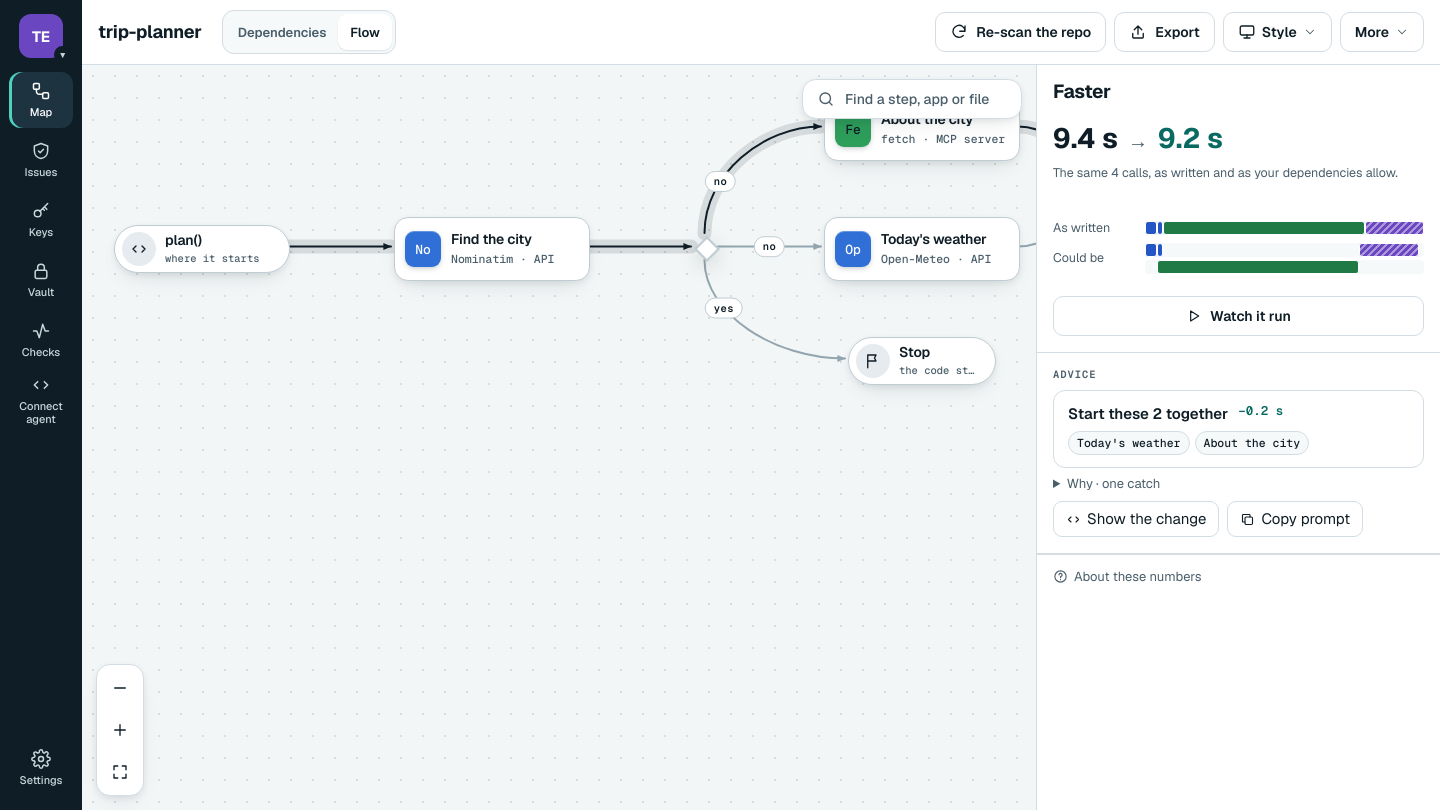
Test case: Watch it run plays the could-be schedule, said plainly
Click the button "Watch it run": (1238, 316) [1053,296,1424,336]
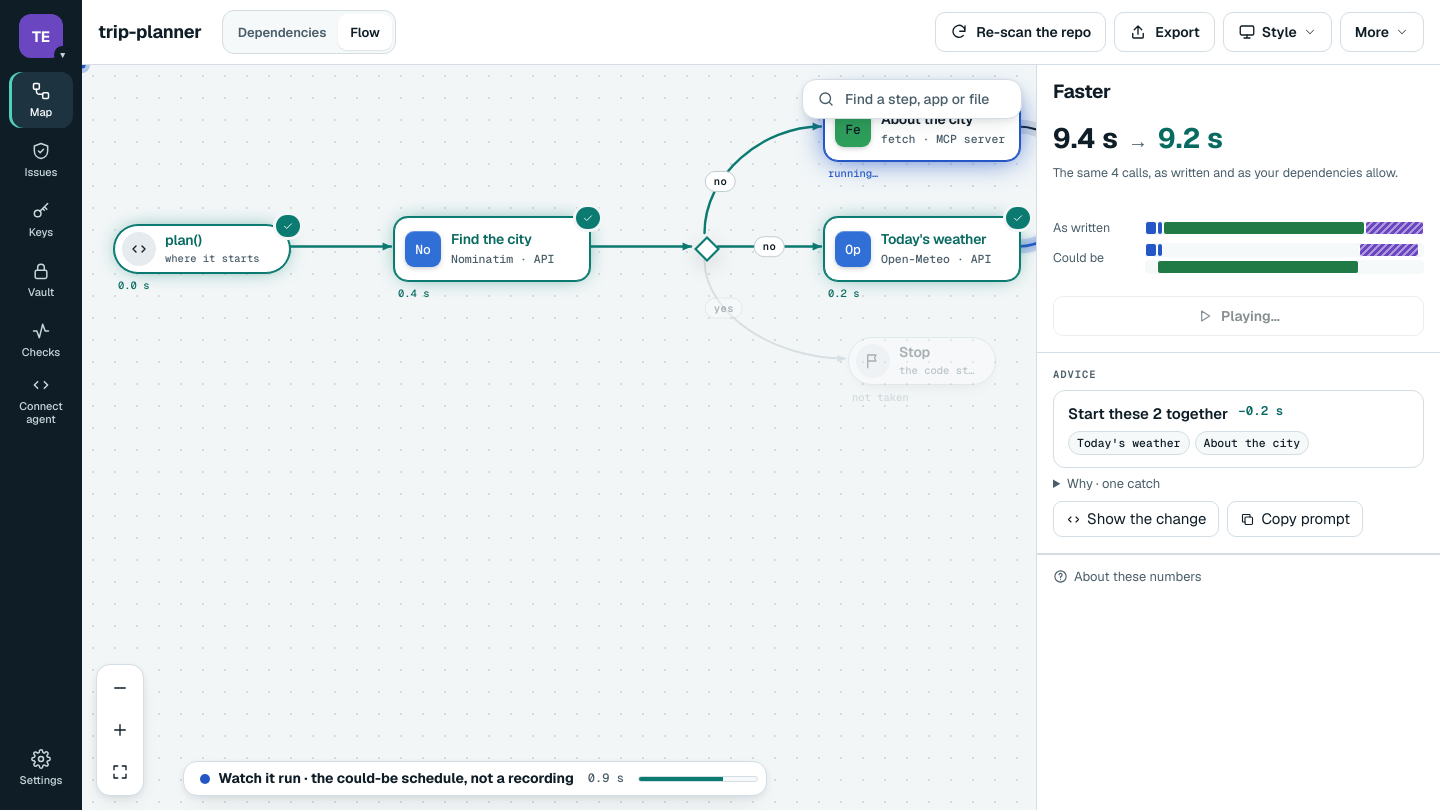
Expected: the message shows "Watch it run · the could-be schedule, not a recording", [218,769,574,787]
